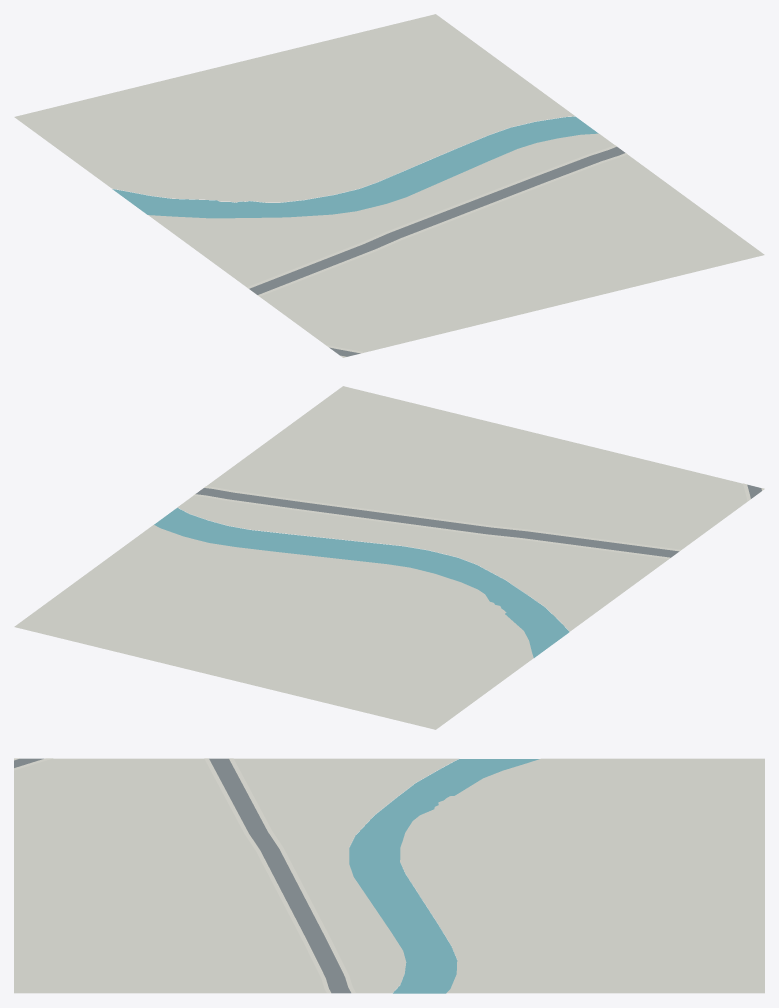
3 renders of one model, top to bottom at view 1: azimuth 30°, elevation 25°; view 2: azimuth 150°, elevation 25°; view 3: azimuth 270°, elevation 25°, orthographic. The views are drawn at different scales.
Visible parts, largest first — view 1: city; view 2: city; view 3: city.
Boxes of the visible parts, x1,y1,x2,y2 form: city: [14, 14, 764, 357]; city: [14, 386, 764, 729]; city: [14, 758, 764, 993].
Bounding box in the file's own units: 370 × 0.4 × 500.
